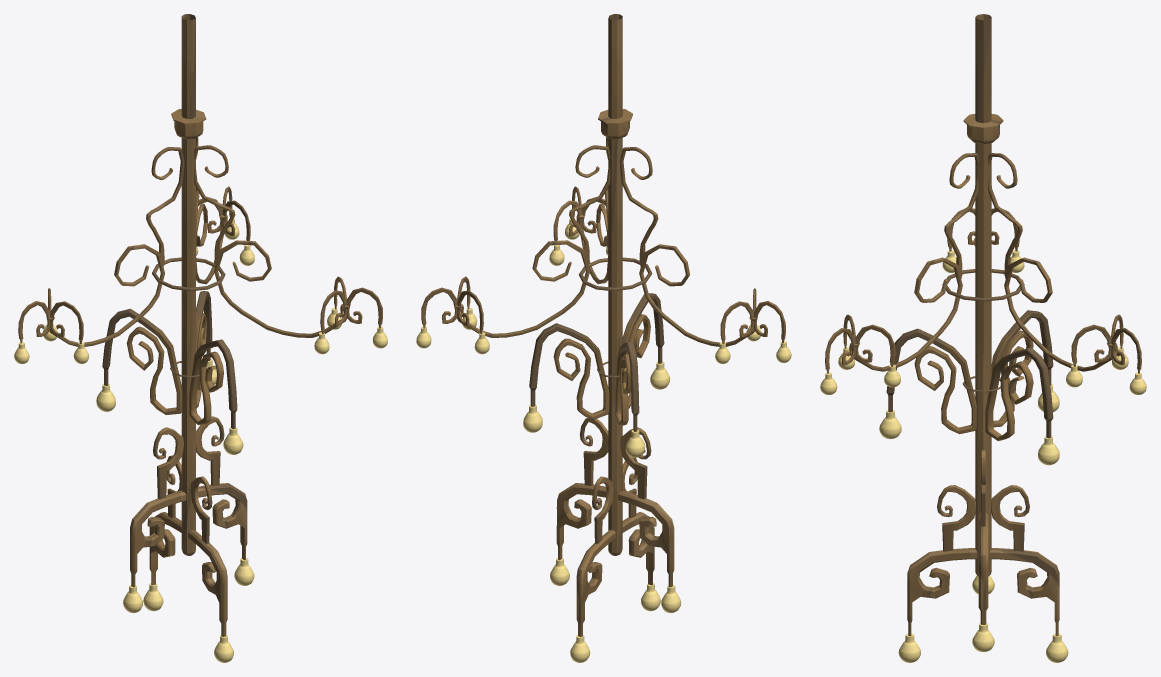
The model's file is WoodChandelier.fbx.
3 views of the same model, side by side, from view 1: azimuth 30°, elevation 25°; view 2: azimuth 150°, elevation 25°; view 3: azimuth 270°, elevation 25° (orthographic). The views are drawn at different scales.
Parts seen in each view (by area): view 1: chandelier; view 2: chandelier; view 3: chandelier.
Part boxes in pixels (x1,y1,x2,y2): chandelier: [14, 14, 387, 662]; chandelier: [416, 14, 791, 662]; chandelier: [820, 14, 1146, 662].
Bounding box in the file's own units: 116 × 230 × 105.
